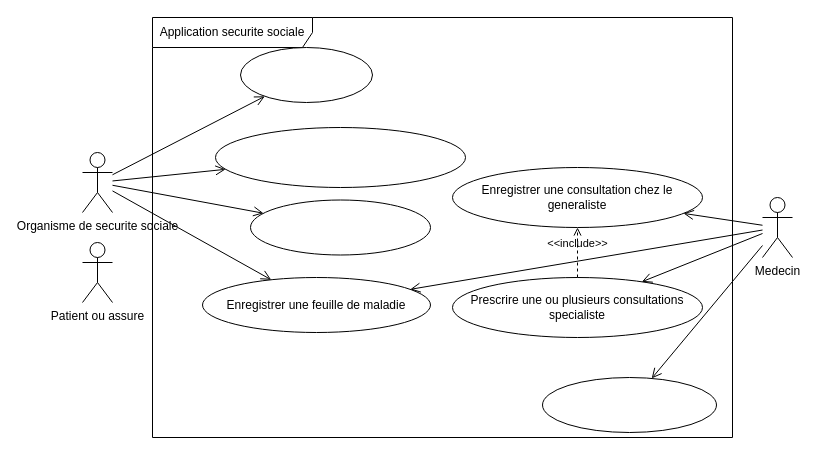
Image size: 817x455. Some labels were removed from this diagram. The box of each missing label's shape, as (x1, y1, x2, y2) in pixels:
Effectuer un remboursement: (250, 199, 430, 255)
Enregistrer le medecin traitant d un assure: (214, 126, 466, 188)
Inscrire un assure: (240, 46, 372, 102)
Prescrire des medicaments: (542, 376, 716, 432)
